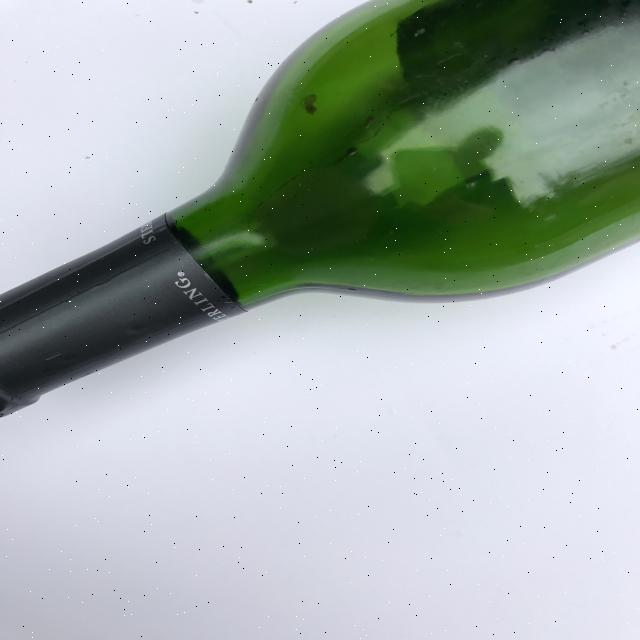glass: (1, 0, 639, 420)
